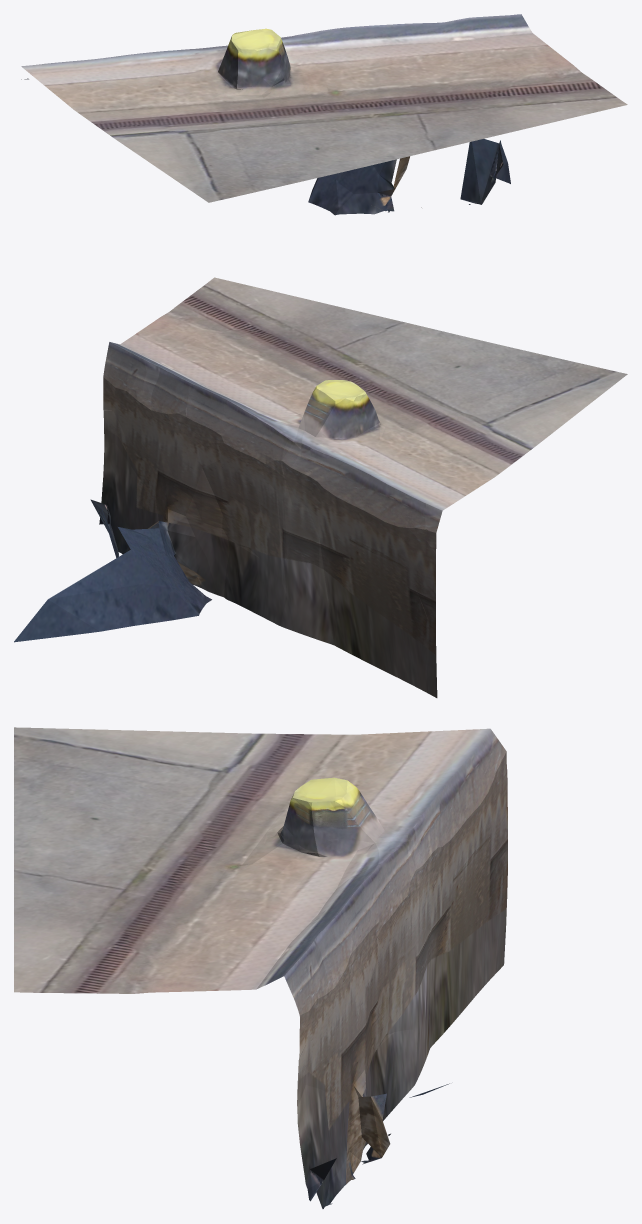
The picture shows the model from 3 angles, top to bottom: view 1: azimuth 30°, elevation 25°; view 2: azimuth 150°, elevation 25°; view 3: azimuth 270°, elevation 25°; orthographic projection. The views are drawn at different scales.
Size of the model in its own units: 4.18 by 2.11 by 4.18.
Materials: 3 (3 with a texture image).
